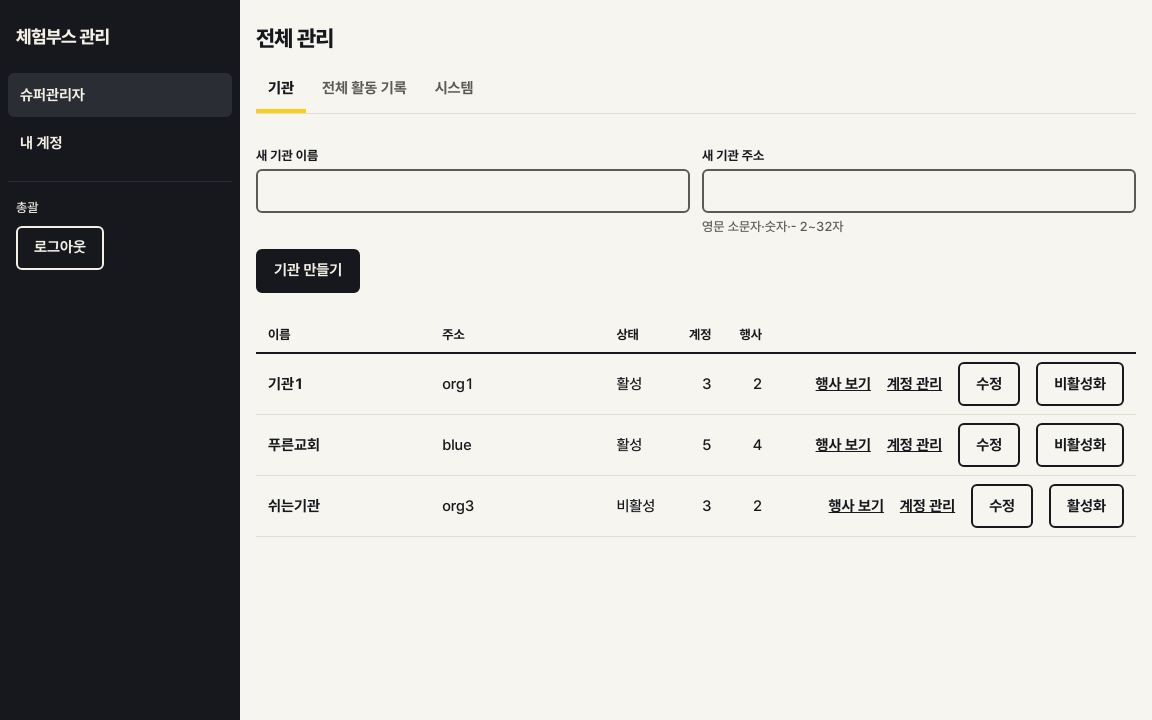
Scenario: 기관 목록 › slug_taken 을 주소 입력란에 보인다
Expected: the element named "기관 목록" is shown, [256,317,1136,537]
Type "새기관" into the field labelled "새 기관 이름" at (473, 191), box [256,169,690,213]
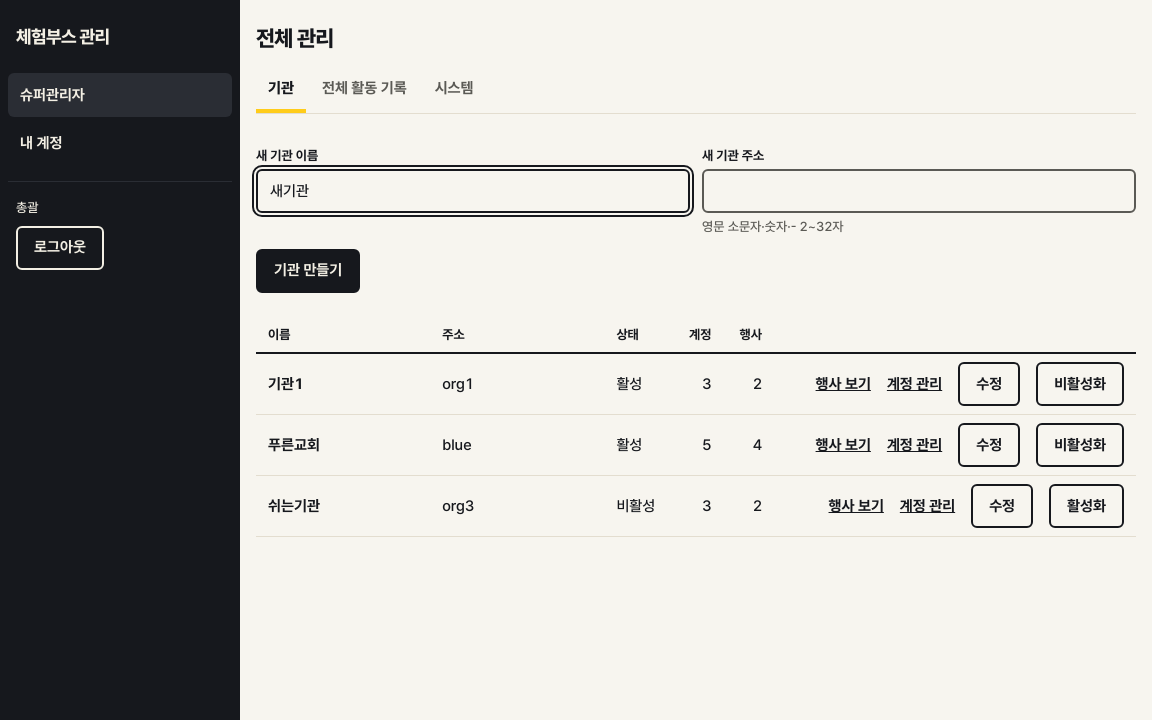
Type "blue" into the field labelled "새 기관 주소" at (919, 191), box [702,169,1136,213]
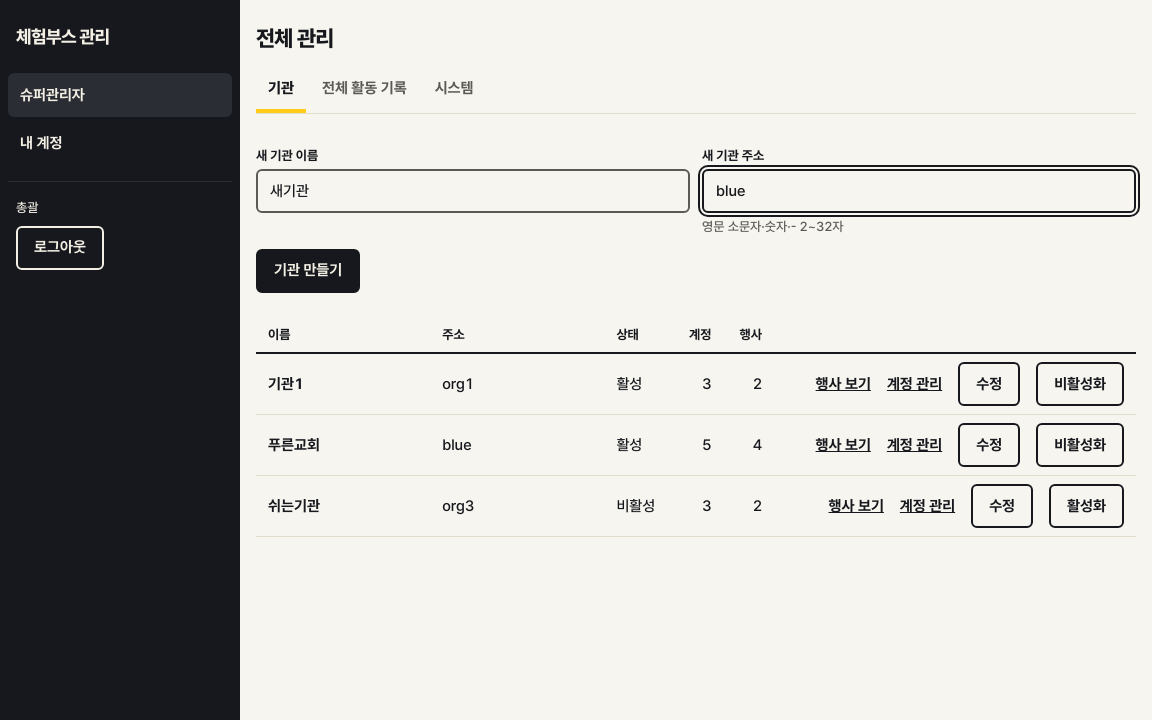
Click the button "기관 만들기" at (308, 271), box [256,249,360,293]
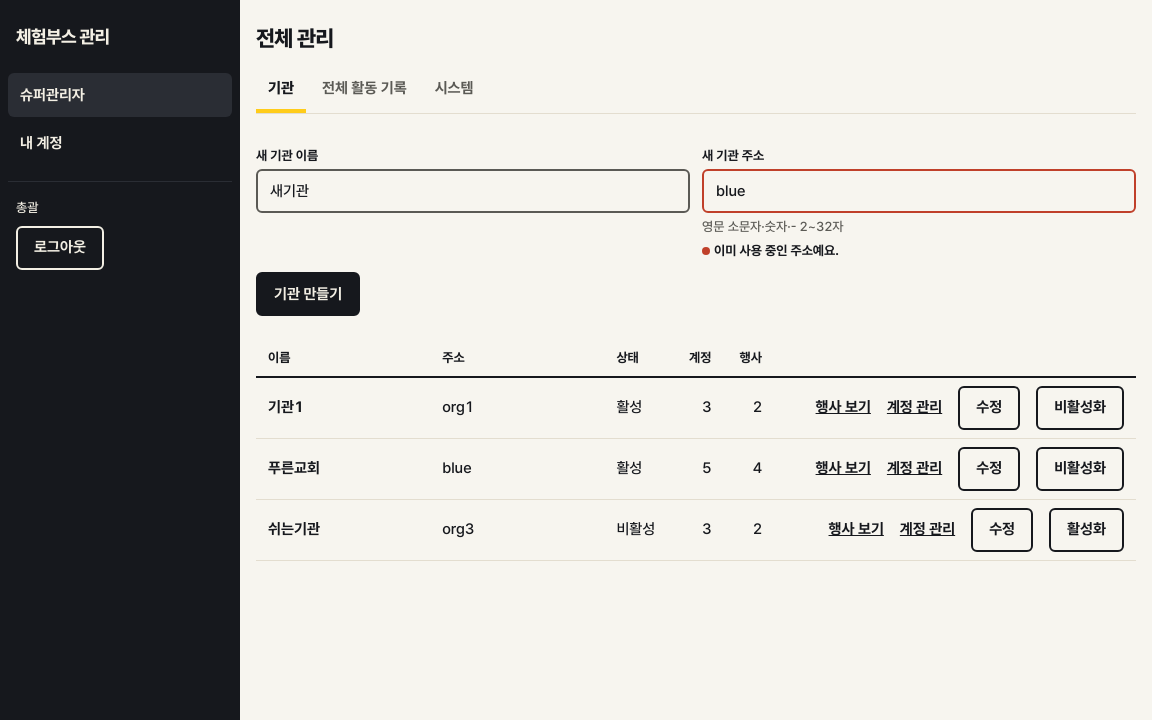
Now the text "이미 사용 중인 주소예요." is shown, box [702,243,839,258]
